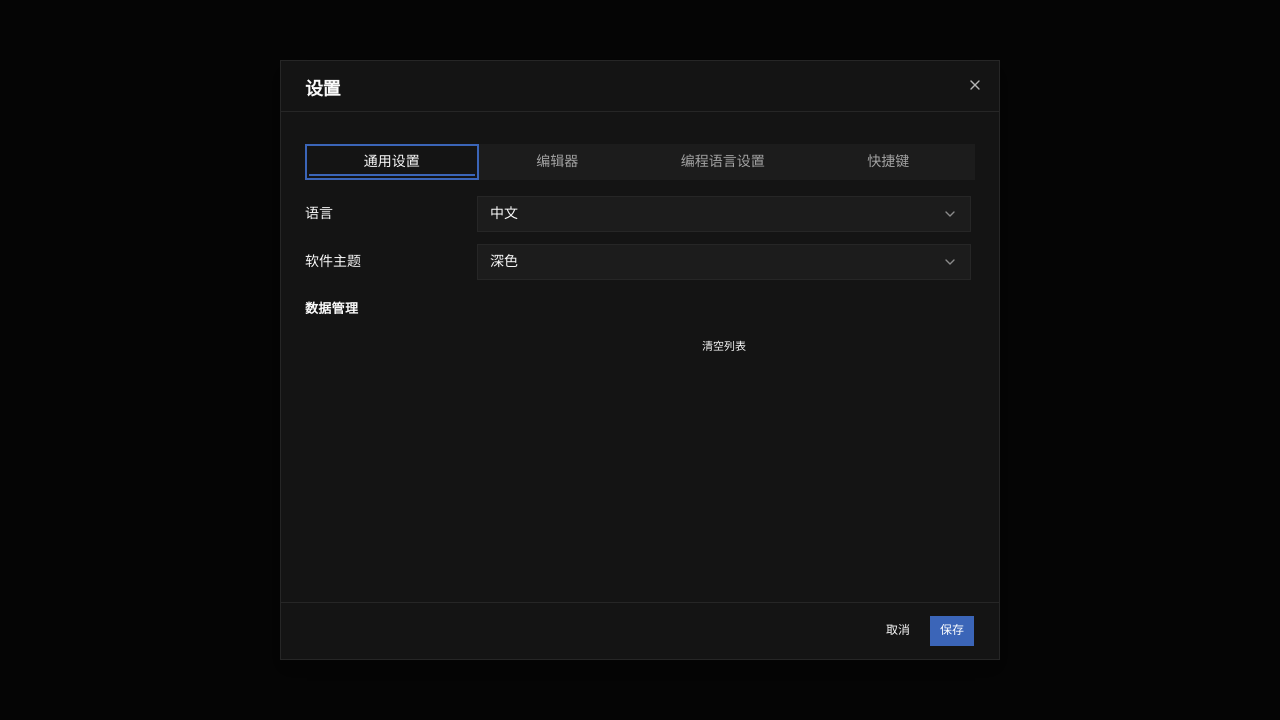
SettingsPanel 快捷键 tab 渲染 › 切换到快捷键 tab 后渲染当前平台的快捷键
The width and height of the screenshot is (1280, 720).
Click the tab "快捷键" at point(888, 162), box left=806, top=148, right=971, bottom=176
(page scrolled)
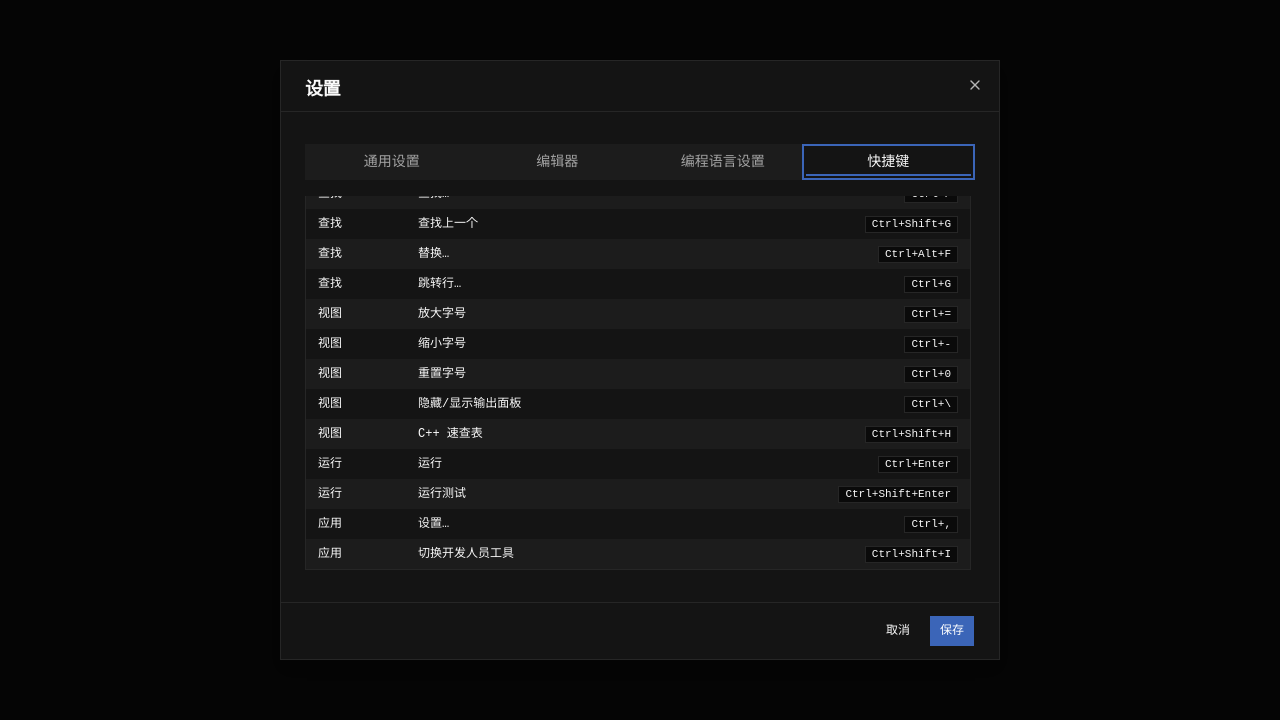
Expected: the text "Ctrl+Shift+G" is shown, left=865, top=216, right=958, bottom=232
Expected: the text "Ctrl+Alt+F" is shown, left=878, top=246, right=958, bottom=262
Expected: the text "Ctrl+G" is shown, left=904, top=276, right=958, bottom=292
